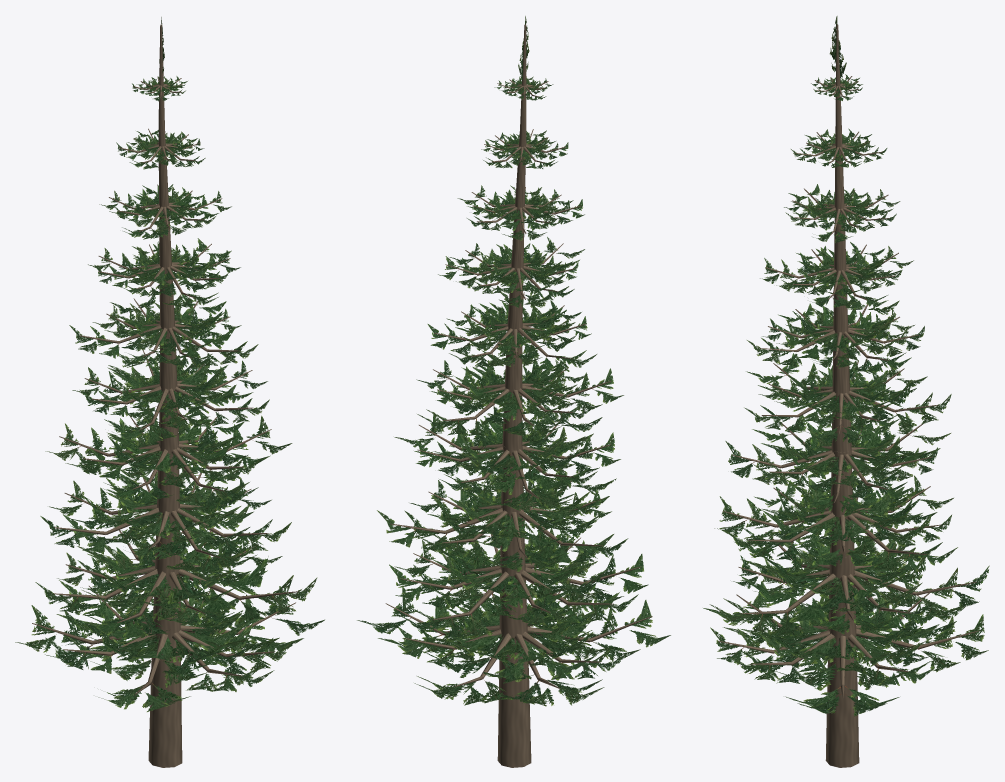
The model's file is silver-fir-near.glb.
The picture shows the model from 3 angles, left to right: view 1: azimuth 30°, elevation 25°; view 2: azimuth 150°, elevation 25°; view 3: azimuth 270°, elevation 25°; orthographic projection.
Visible parts, largest first — view 1: Crown_Foliage, Trunk_Wood; view 2: Crown_Foliage, Trunk_Wood; view 3: Crown_Foliage, Trunk_Wood.
Part boxes in pixels (x1,y1,x2,y2): Crown_Foliage: (15, 17, 324, 711); Trunk_Wood: (32, 24, 298, 767); Crown_Foliage: (357, 16, 670, 706); Trunk_Wood: (385, 24, 652, 767); Crown_Foliage: (703, 16, 989, 716); Trunk_Wood: (718, 24, 978, 767).
Bounding box in the file's own units: 6.22 × 17.25 × 6.08.
Materials: 2 (2 with a texture image).
